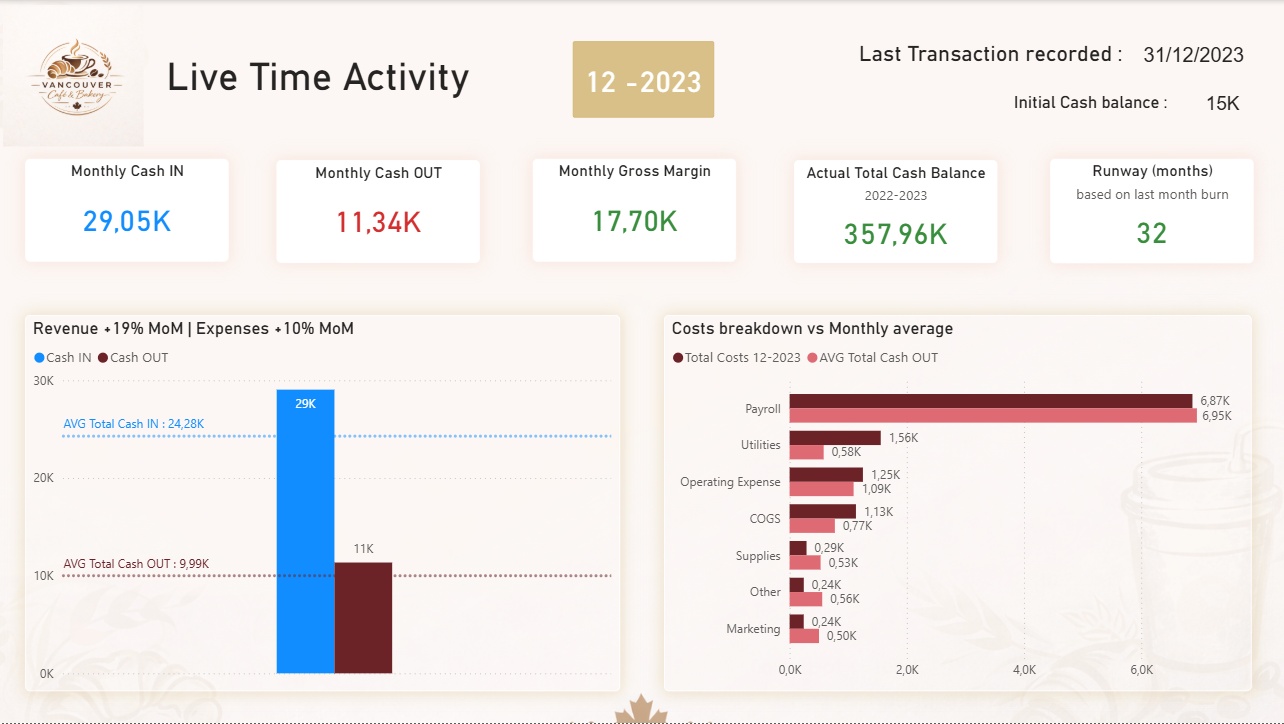

The dashboard page shown, as its layout file describes it:
{"tool":"powerbi","page":{"name":"Live Time Activity","canvas":[1280,720],"ordinal":0},"visuals":[{"type":"image","box":[0,0,1280,720.3],"z":0},{"type":"card","title":"Monthly Cash IN","fields":{"Values":["_mesures._actual_amount_IN"]},"box":[25.6,157.9,202,102.4],"z":1000},{"type":"card","title":"Monthly Cash OUT","fields":{"Values":["_mesures._actual_amount_OUT"]},"box":[276,159.3,202,102.4],"z":2000},{"type":"card","title":"Actual Total Cash Balance","fields":{"Values":["_mesures._Total_actual_cashFlowALLaccounts"]},"box":[790.9,159.3,202,102.4],"z":3000},{"type":"textbox","box":[850.9,36.1,284.9,39.8],"z":4000},{"type":"card","fields":{"Values":["_mesures._last_transactions"]},"box":[1117.1,21.1,144.3,69.7],"z":5000},{"type":"card","fields":{"Values":["_mesures._last_transactions"]},"box":[571,41.1,140.6,75.9],"z":6000},{"type":"card","title":"Runway (months)","fields":{"Values":["_mesures._runway_last_Month"]},"box":[1045.6,157.9,202,103.8],"z":7000},{"type":"clusteredBarChart","title":"Costs breakdown vs Monthly average","fields":{"Category":["dim_category.category Hiérarchie.category","dim_category.category Hiérarchie.category_flux"],"Y":["_mesures._Total_LastMonth_actual_amount_OUT","_mesures._AVG_Total _Cash_OUT"]},"box":[661.8,313.5,584.7,374.4],"z":8000},{"type":"card","title":"Monthly Gross Margin","fields":{"Values":["_mesures._margeBrut"]},"box":[530.6,157.9,202,102.4],"z":9000},{"type":"clusteredColumnChart","title":"Revenue +19% MoM | Expenses +10% MoM","fields":{"Y":["_mesures._Total_LastMonth_actual_amount_IN","_mesures._Total_LastMonth_actual_amount_OUT"]},"box":[25.6,313,591.8,374.1],"z":10000},{"type":"card","title":"01/01/2022 cash balance","fields":{"Values":["_mesures._Initial_balance"]},"box":[1174.3,82.1,87.1,43.5],"z":11000},{"type":"textbox","box":[161.7,48.5,347.1,62.2],"z":12000},{"type":"textbox","box":[1025,88.3,182.9,28.6],"z":13000},{"type":"image","box":[0,5,148,140.6],"z":13001},{"type":"textbox","box":[1005.1,87.1,169.2,31.1],"z":13002}]}

Visuals, with their boxes in screenshot pixels (x1, y1, x2, y2), scaled from the page's 1280x720 canvas onto the 1284x724 screenshot:
image: 0:0:1283:723
"Monthly Cash IN" card: 26:159:228:262
"Monthly Cash OUT" card: 277:160:479:263
"Actual Total Cash Balance" card: 793:160:996:263
textbox: 854:36:1139:76
card - _mesures._last_transactions: 1121:21:1265:91
card - _mesures._last_transactions: 573:41:714:118
"Runway (months)" card: 1049:159:1251:263
"Costs breakdown vs Monthly average" clusteredBarChart: 664:315:1250:692
"Monthly Gross Margin" card: 532:159:735:262
"Revenue +19% MoM | Expenses +10% MoM" clusteredColumnChart: 26:315:619:691
"01/01/2022 cash balance" card: 1178:83:1265:126
textbox: 162:49:510:111
textbox: 1028:89:1212:118
image: 0:5:148:146
textbox: 1008:88:1178:119
